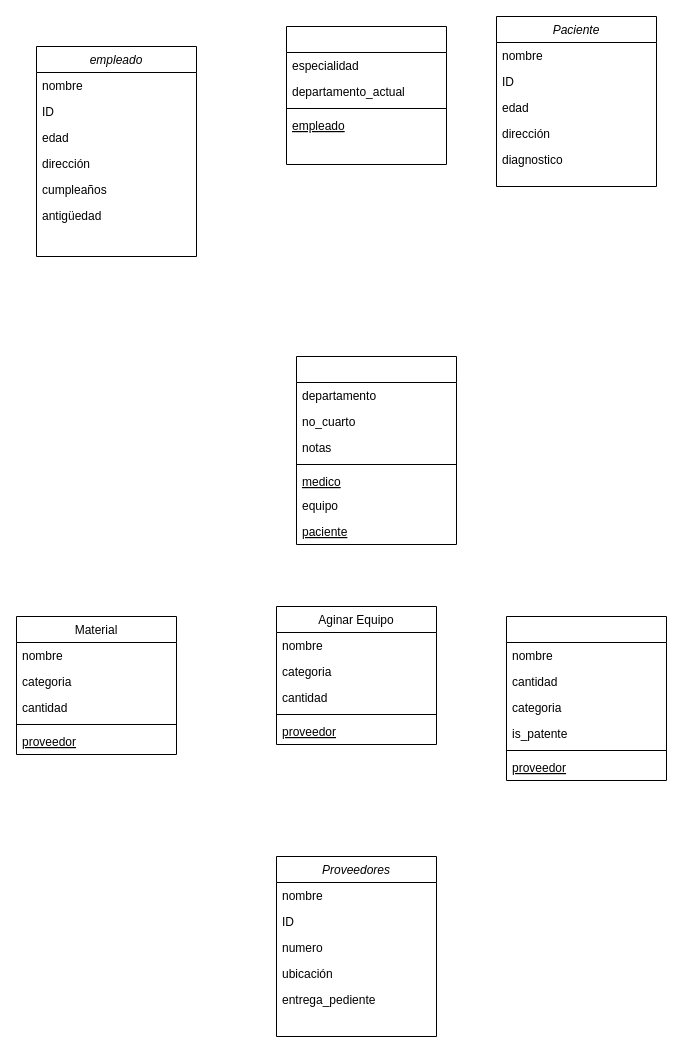
Image size: 683x1053. Some labels were removed from this diagram. Here are the shapes that lost their labels. From the top down, the box of each, then its label:
(286, 26, 446, 164): Médico
(296, 356, 456, 544): Departamentos
(506, 616, 666, 780): Medicamentos
